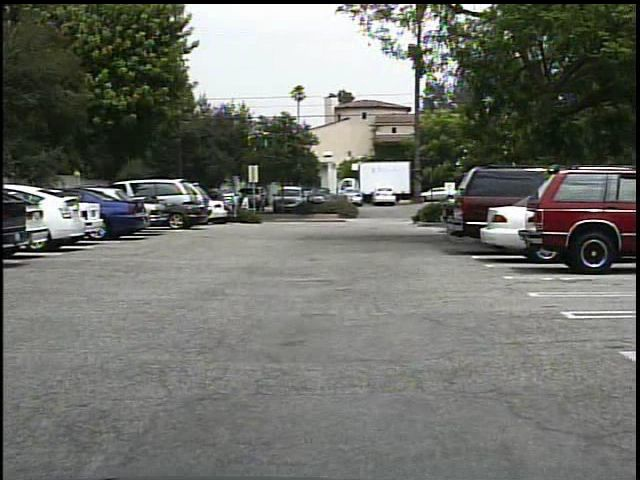person: (226, 189, 241, 220), (239, 192, 255, 220), (237, 189, 248, 220)
